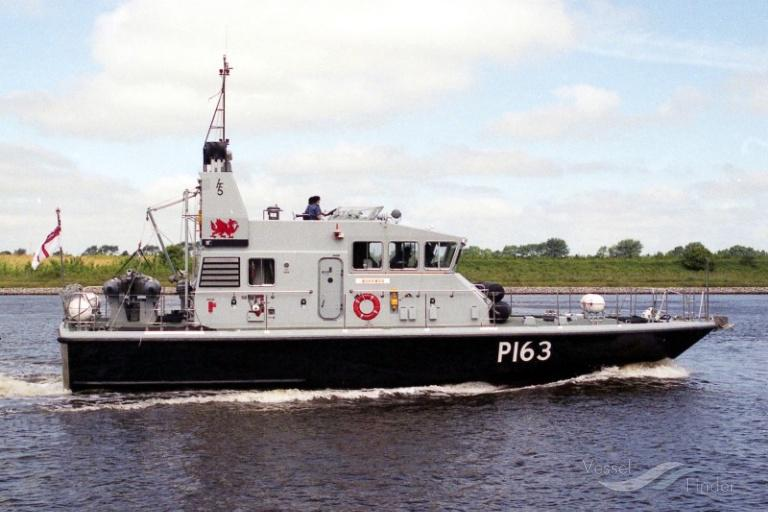OCR: (494, 336, 554, 366)
